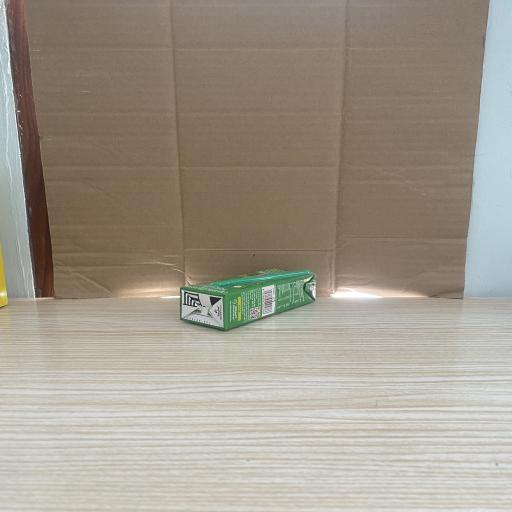milo: (180, 269, 316, 331)
